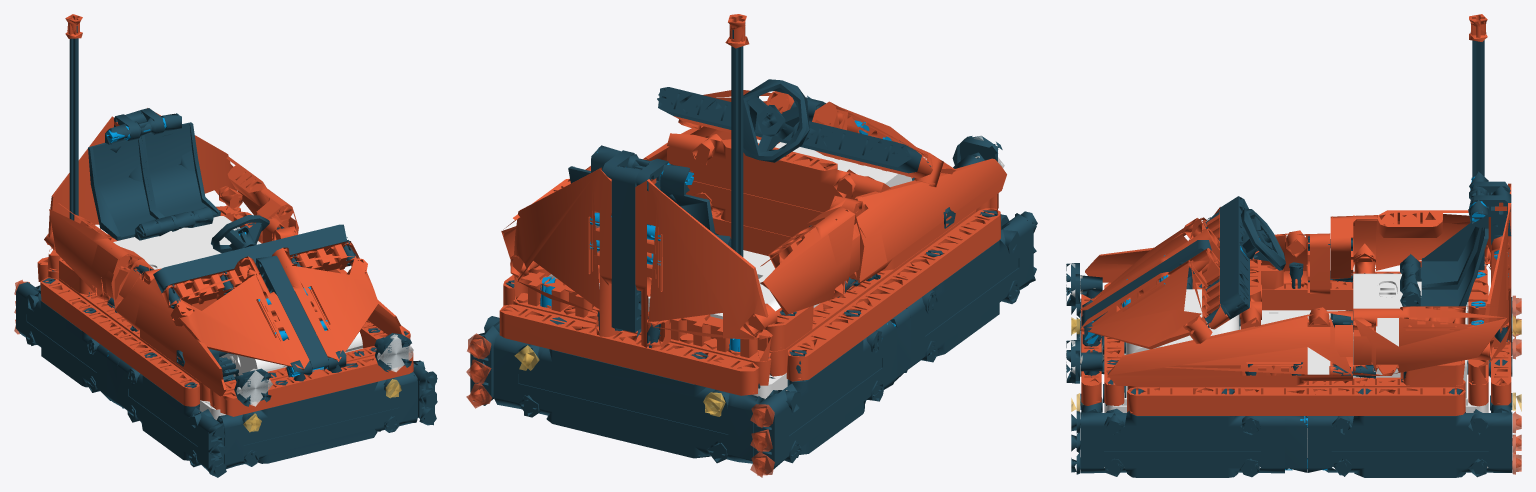
File: dodgem.glb
The picture shows the model from 3 angles, left to right: view 1: azimuth 30°, elevation 25°; view 2: azimuth 150°, elevation 25°; view 3: azimuth 270°, elevation 25°; orthographic projection. The views are drawn at different scales.
Parts seen in each view (by area): view 1: Base (×6); view 2: Base (×7); view 3: Base (×7).
Part boxes in pixels (left/top/right/bottom): Base (×6): left=16, top=14, right=437, bottom=477; Base (×7): left=466, top=14, right=1037, bottom=477; Base (×7): left=1066, top=14, right=1521, bottom=477.
Bounding box in the file's own units: 260 × 355 × 400.
